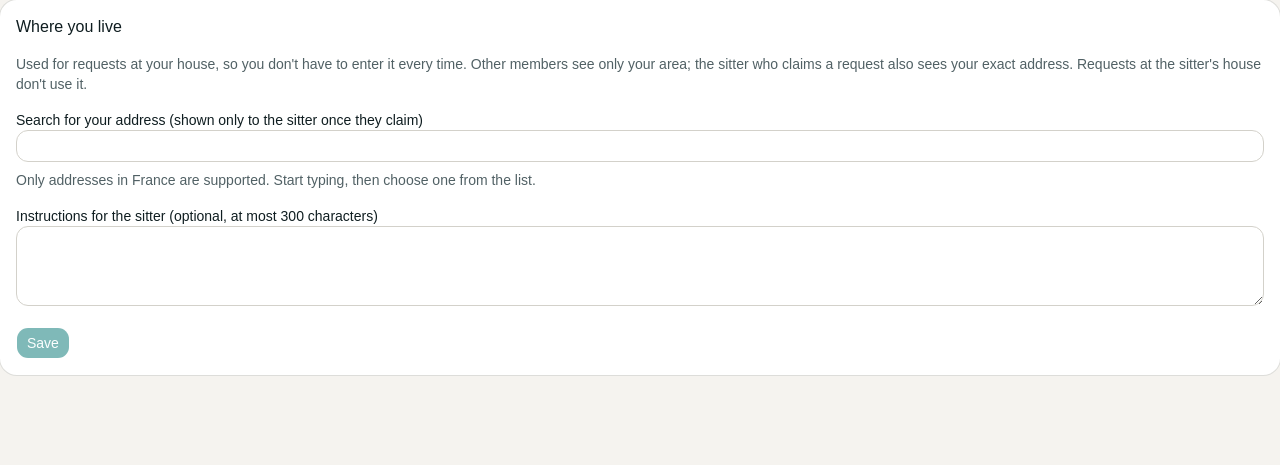
Test: ProfilePage › saves only a picked suggestion, previews its Area and sends the instructions
The width and height of the screenshot is (1280, 465).
Type "12 rue de la paix" into the dropdown labelled "Search for your address" at (640, 146), box [16,130,1264,162]
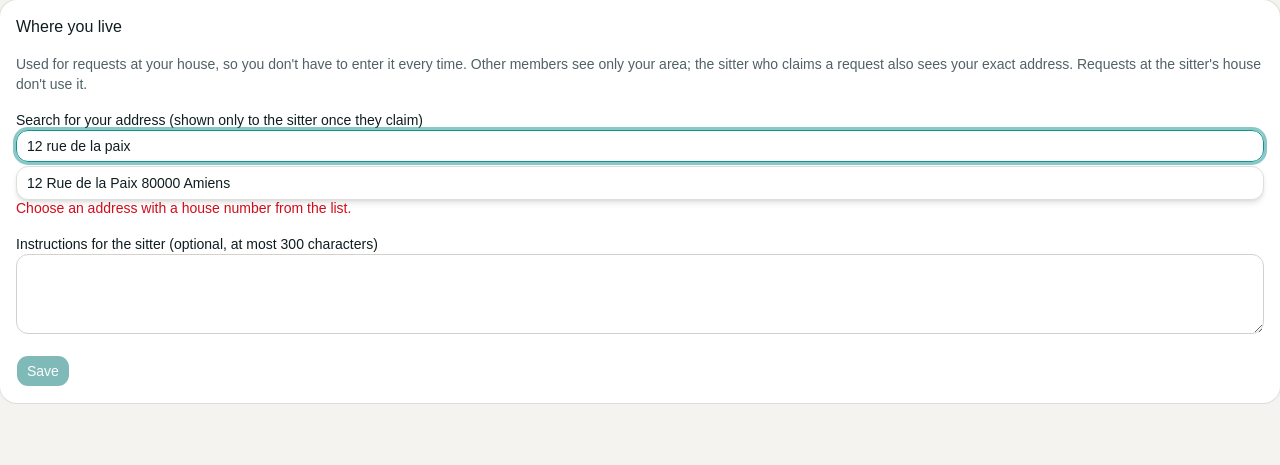
Expected: the button "Save" is disabled, [16,355,70,387]
Result: the text "Choose an address with a house number from the list." is shown at [16,200,351,216]
Click the option "12 Rue de la Paix 80000 Amiens" at (129, 183), box [27,175,230,191]
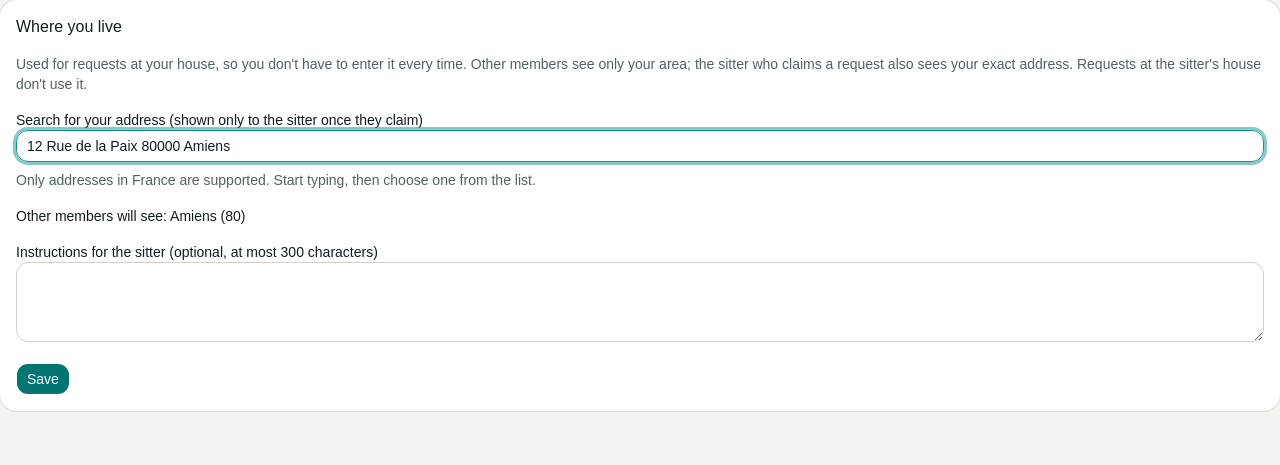
Result: the text "Other members will see: Amiens (80)" is shown at [16,208,246,224]
Type "apt 3" into the text box labelled "Instructions" at (640, 302), box [16,262,1264,342]
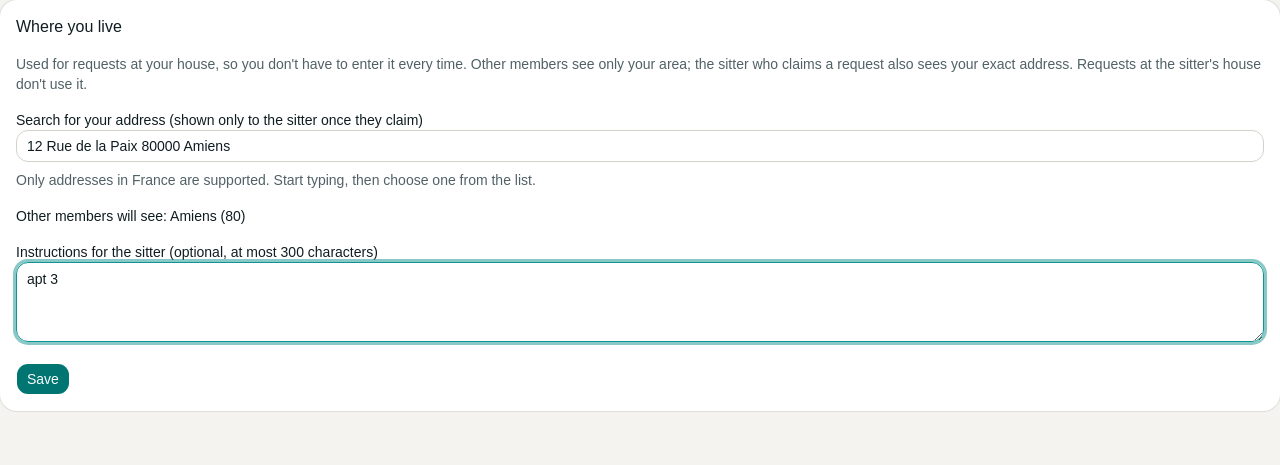
Click the button "Save" at (43, 379), box [16,363,70,395]
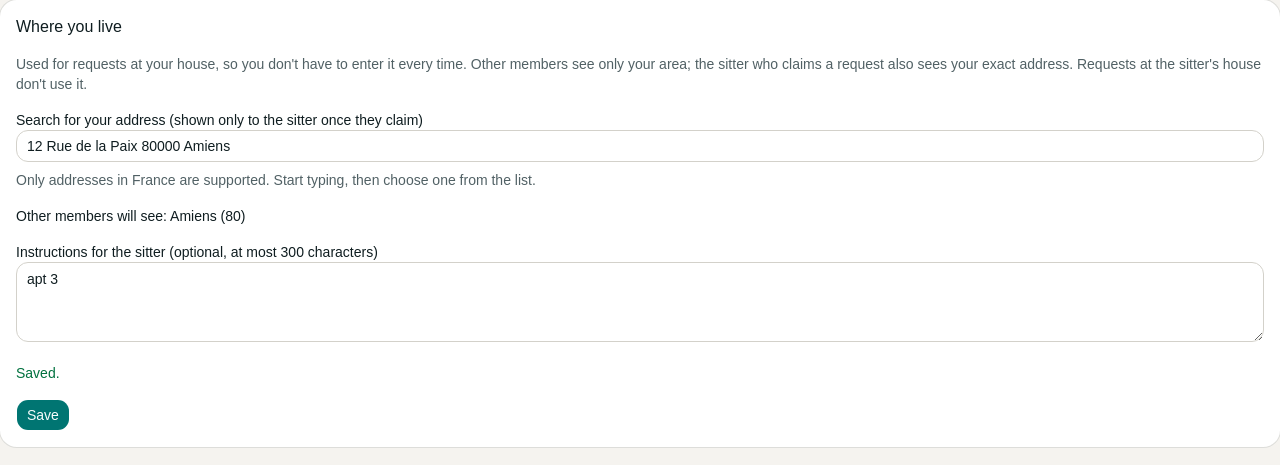
Result: the message shows "Saved" at [16,365,60,381]
